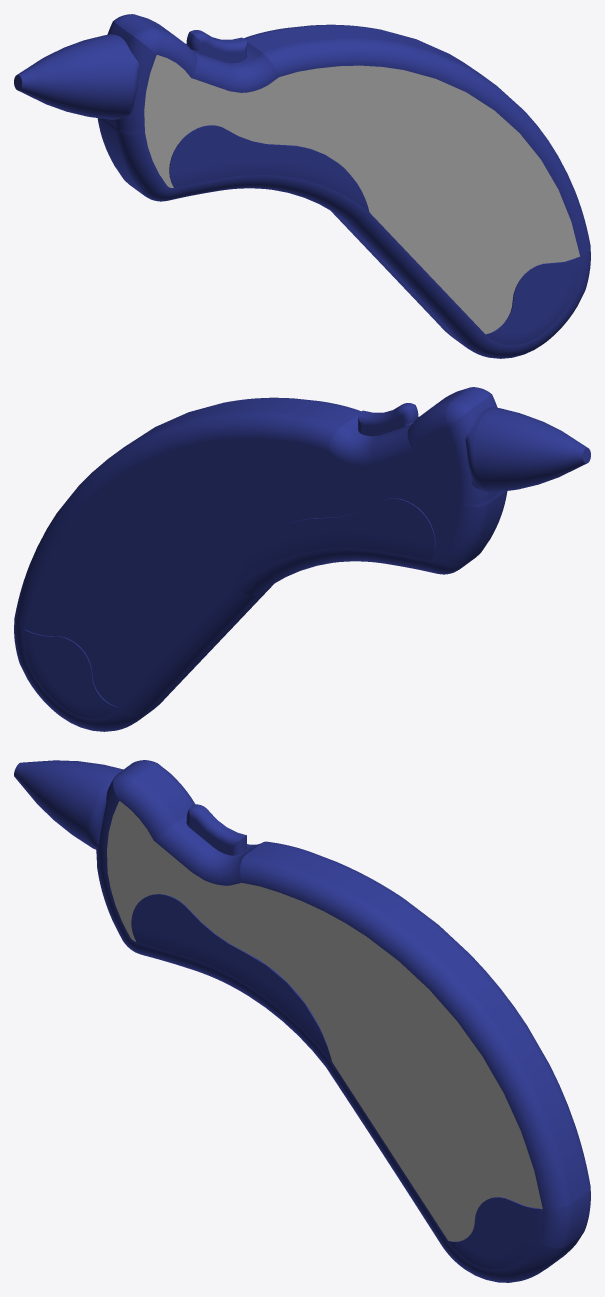
Rendered from tono+pen.fbx.
3 views of the same model, one above another, from view 1: azimuth 30°, elevation 25°; view 2: azimuth 150°, elevation 25°; view 3: azimuth 330°, elevation 25° (orthographic).
Parts seen in each view (by area): view 1: Body2; view 2: Body2, Body3, Body4; view 3: Body2.
Part boxes in pixels (<box>): Body2: <box>14,14,590,358</box>; Body2: <box>14,387,590,731</box>; Body3: <box>235,498,435,585</box>; Body4: <box>24,630,118,718</box>; Body2: <box>14,760,590,1282</box>.
Size of the model in its own units: 60.94 by 43.09 by 8.
